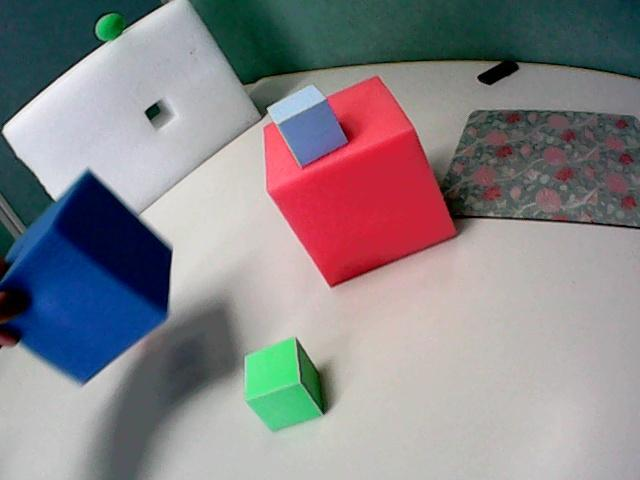blue_block: (0, 173, 171, 381), (267, 86, 346, 166)
red_block: (264, 77, 455, 285)
